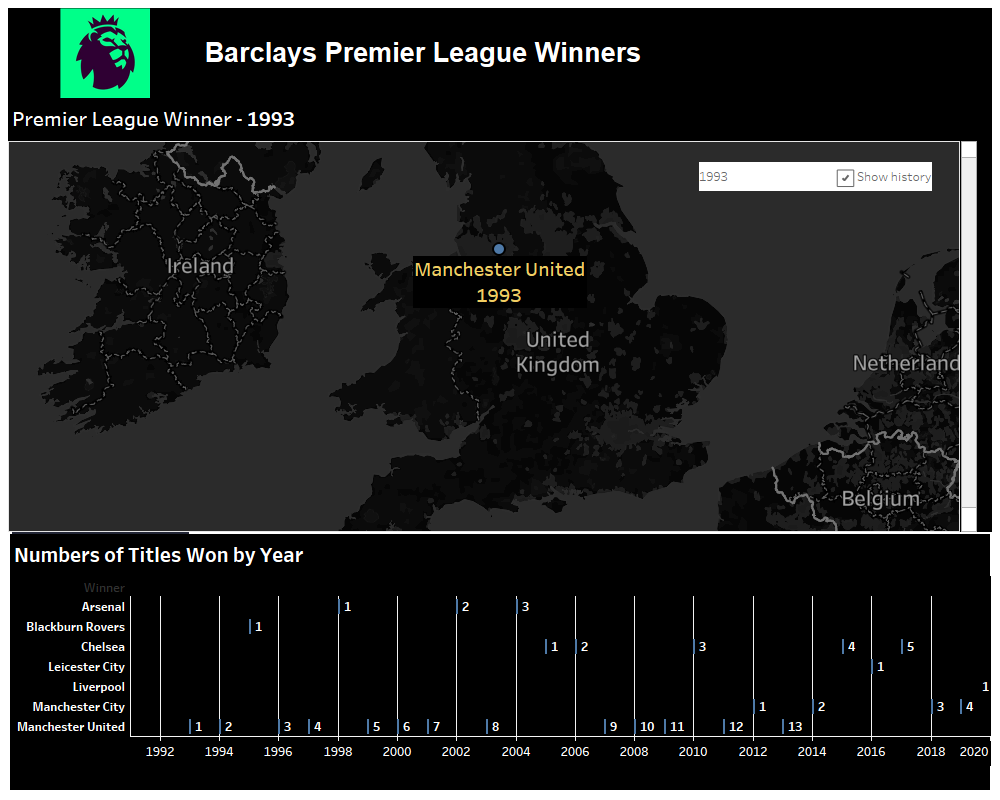

What the dashboard file says about the page in this screenshot:
{"tool":"tableau","page":{"name":"Dashboard","canvas":[1000,800],"ordinal":0},"visuals":[{"type":"image","param":"D:/Data Analytics/Premier League Winners/Premier League Winners Dashboard/logo.j","box":[8,8,194,89.9]},{"type":"text","box":[202,8,790,89.9]},{"type":"worksheet","title":"Winners Geo Data","mark":"Automatic","rows":["Latitude"],"cols":["Longitude"],"box":[8,97.9,984,434.1]},{"type":"currpage","title":"Winners Geo Data","box":[699,162,233,29]},{"type":"worksheet","title":"Graph","mark":"Automatic","rows":["Winner"],"cols":["Year"],"box":[8,532,984,260]}]}

Visuals, with their boxes in screenshot pixels (x1, y1, x2, y2), scaled from the page's 1000x800 canvas onto the 1000x800 screenshot:
image: [left=8, top=8, right=202, bottom=98]
text: [left=202, top=8, right=992, bottom=98]
"Winners Geo Data" worksheet: [left=8, top=98, right=992, bottom=532]
"Winners Geo Data" currpage: [left=699, top=162, right=932, bottom=191]
"Graph" worksheet: [left=8, top=532, right=992, bottom=792]
